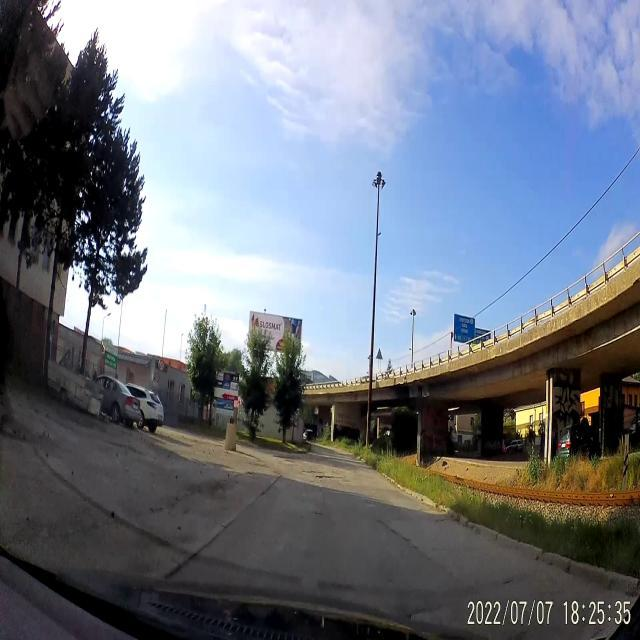Pothole: (296, 463, 328, 478), (310, 472, 344, 486)
